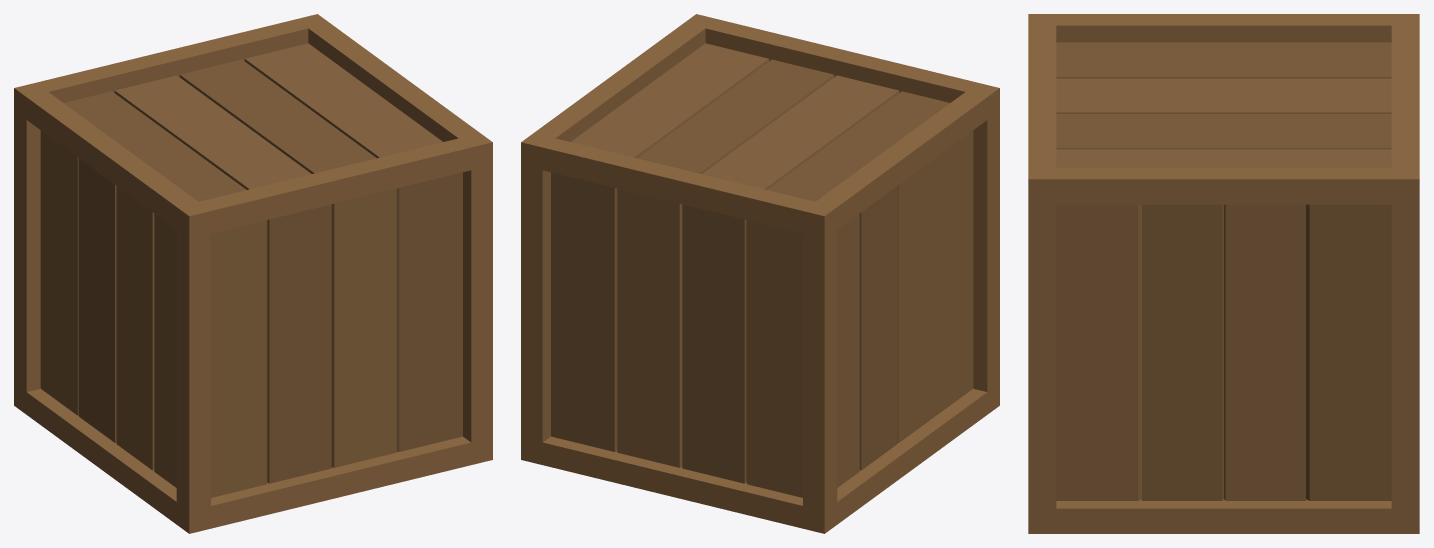
The model's file is Crate.fbx.
3 views of the same model, side by side, from view 1: azimuth 30°, elevation 25°; view 2: azimuth 150°, elevation 25°; view 3: azimuth 270°, elevation 25° (orthographic). The views are drawn at different scales.
Parts seen in each view (by area): view 1: Crate; view 2: Crate; view 3: Crate.
Boxes of the visible parts, x1,y1,x2,y2 form: Crate: [14, 14, 492, 533]; Crate: [521, 14, 999, 533]; Crate: [1028, 14, 1419, 533].
Size of the model in its own units: 100 by 100 by 100.
